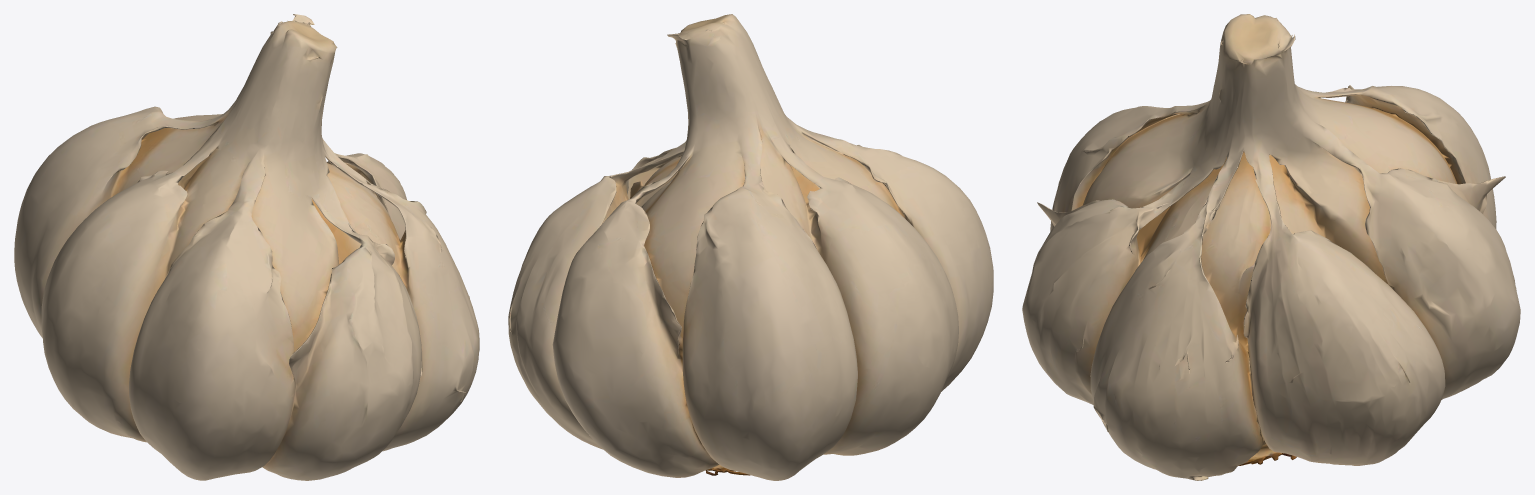
The model's file is garlic.glb.
3 renders of one model, left to right at view 1: azimuth 30°, elevation 25°; view 2: azimuth 150°, elevation 25°; view 3: azimuth 270°, elevation 25°, orthographic. The views are drawn at different scales.
Visible parts, largest first — view 1: tripo_node_1021d8c6-5932-4f6c-af7f-ecc8437eb441; view 2: tripo_node_1021d8c6-5932-4f6c-af7f-ecc8437eb441; view 3: tripo_node_1021d8c6-5932-4f6c-af7f-ecc8437eb441.
Part boxes in pixels (x1,y1,x2,y2): tripo_node_1021d8c6-5932-4f6c-af7f-ecc8437eb441: [14, 14, 479, 480]; tripo_node_1021d8c6-5932-4f6c-af7f-ecc8437eb441: [508, 14, 993, 480]; tripo_node_1021d8c6-5932-4f6c-af7f-ecc8437eb441: [1022, 14, 1520, 480].
Size of the model in its own units: 0.9155 by 0.9981 by 1.
1 material, 1 textured.
